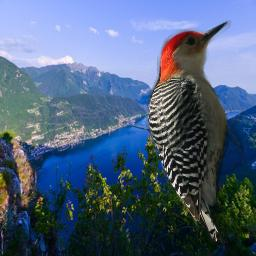Woodpecker: (145, 20, 244, 243)
